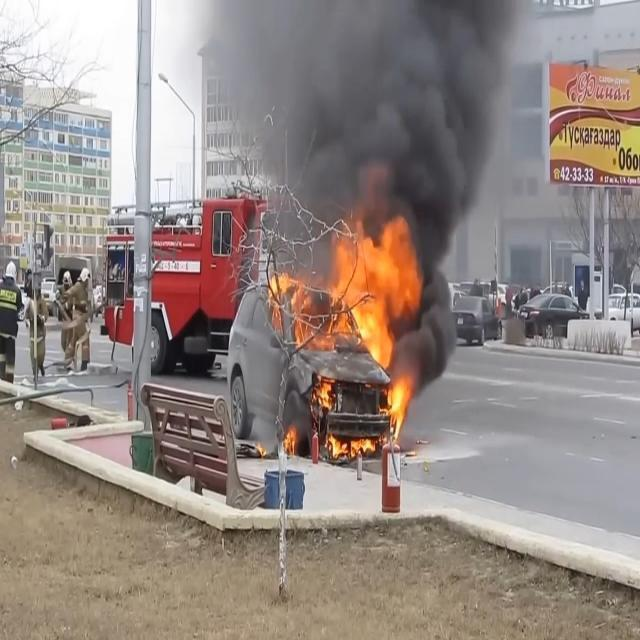fire: (248, 181, 426, 468)
